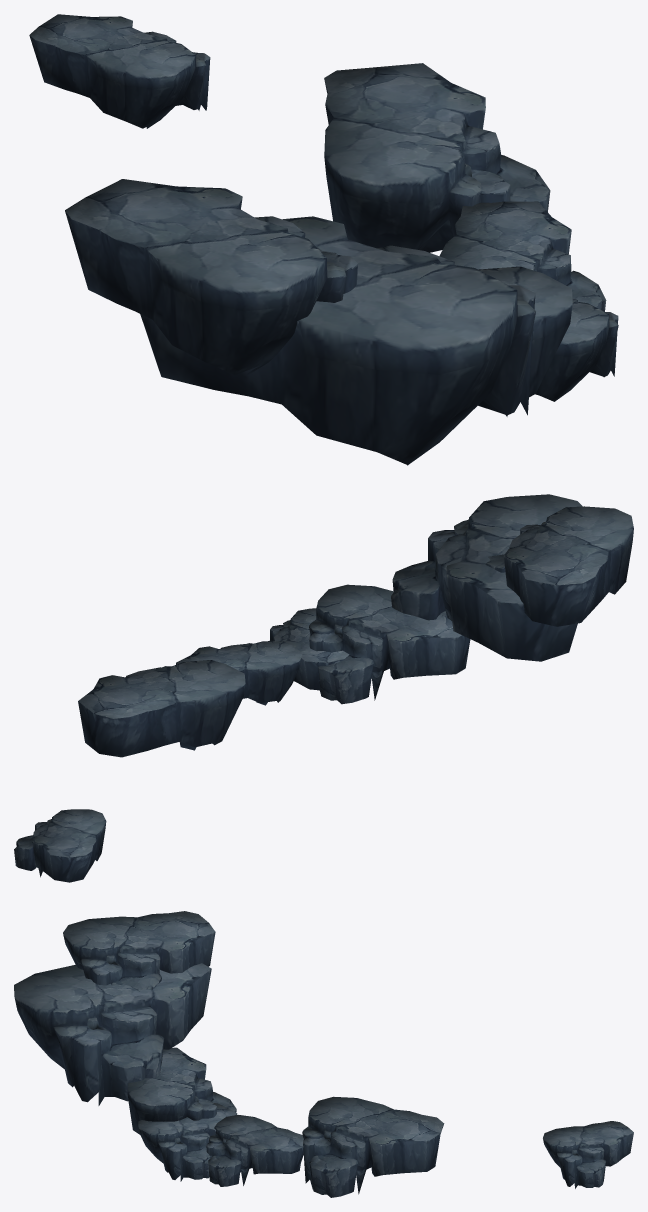
The model's file is Area_13_19.fbx.
3 views of the same model, one above another, from view 1: azimuth 30°, elevation 25°; view 2: azimuth 150°, elevation 25°; view 3: azimuth 270°, elevation 25° (orthographic). The views are drawn at different scales.
Parts seen in each view (by area): view 1: Area_13_19; view 2: Area_13_19; view 3: Area_13_19.
Part boxes in pixels (x1,y1,x2,y2): Area_13_19: (29,14,618,465); Area_13_19: (14,494,633,882); Area_13_19: (14,911,633,1197).
Bounding box in the file's own units: 3235 × 1510 × 5569.
